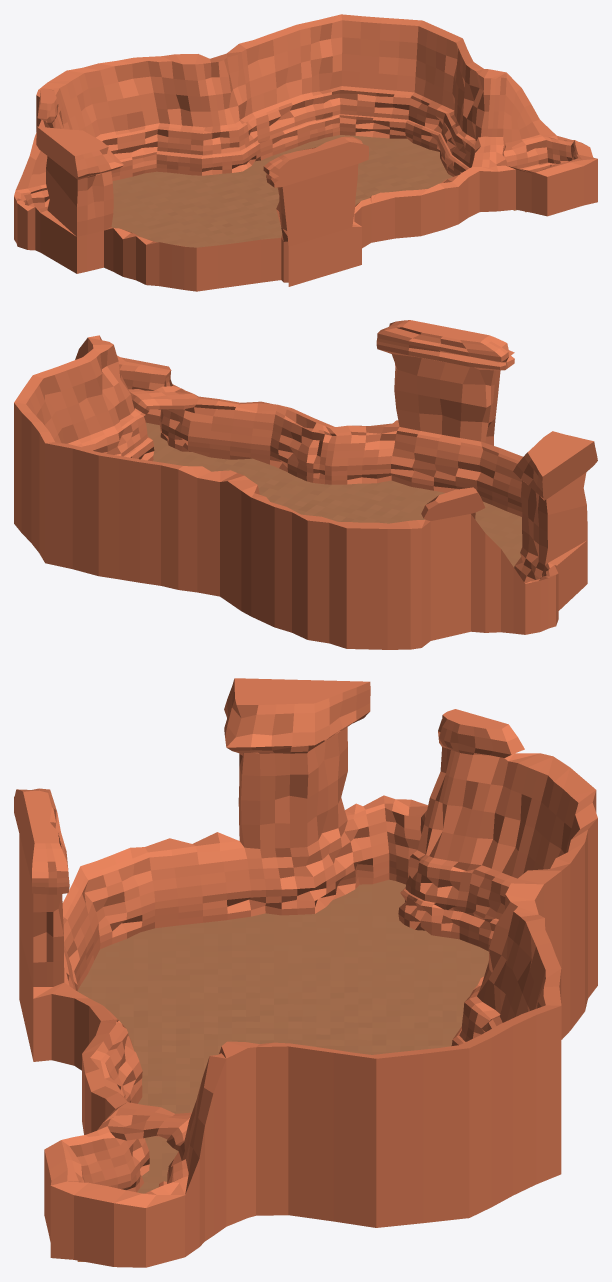
Rendered from Arena_V01.fbx.
The picture shows the model from 3 angles, top to bottom: view 1: azimuth 30°, elevation 25°; view 2: azimuth 150°, elevation 25°; view 3: azimuth 270°, elevation 25°; orthographic projection. The views are drawn at different scales.
Parts seen in each view (by area): view 1: 1_arena_walls, 1_arena_floor; view 2: 1_arena_walls, 1_arena_floor; view 3: 1_arena_walls, 1_arena_floor.
Boxes of the visible parts, x1=… form: 1_arena_walls: x1=14, y1=14, x2=597, y2=291; 1_arena_floor: x1=111, y1=135, x2=526, y2=247; 1_arena_walls: x1=14, y1=320, x2=597, y2=649; 1_arena_floor: x1=146, y1=422, x2=522, y2=567; 1_arena_walls: x1=14, y1=678, x2=597, y2=1267; 1_arena_floor: x1=77, y1=879, x2=488, y2=1261.
Bounding box in the file's own units: 13704 × 3399 × 8444.
